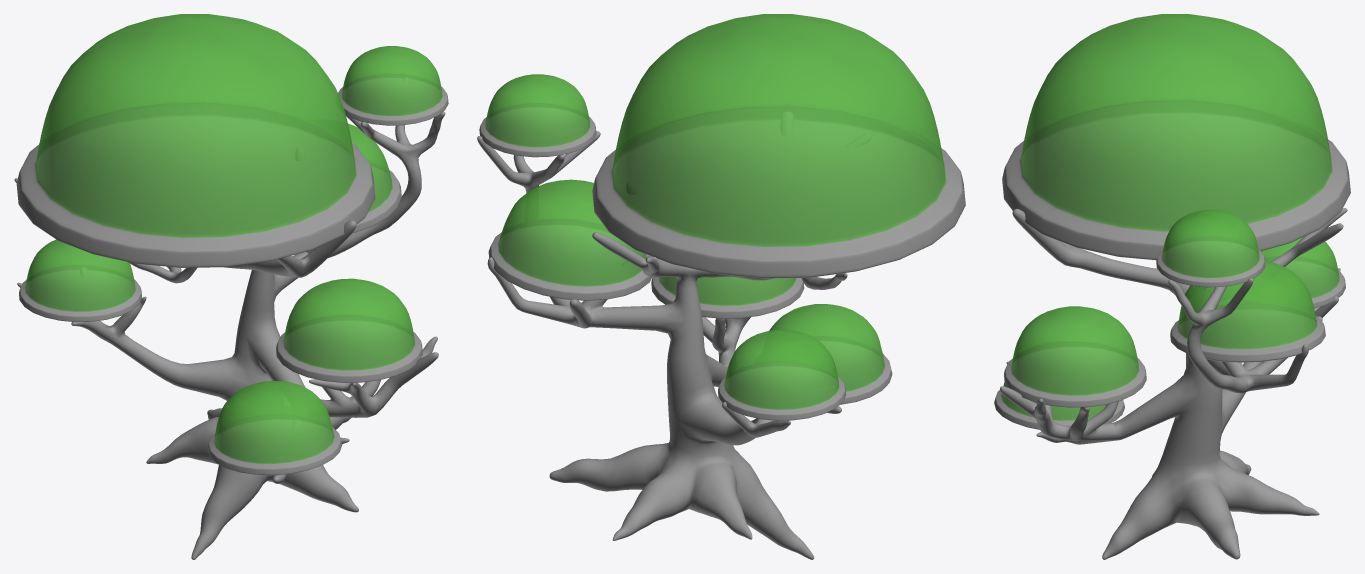
File: Tree_MainDome.fbx
The picture shows the model from 3 angles, left to right: view 1: azimuth 30°, elevation 25°; view 2: azimuth 150°, elevation 25°; view 3: azimuth 270°, elevation 25°; orthographic projection. The views are drawn at different scales.
Parts seen in each view (by area): view 1: TopDome, Tree_MainDone, MiddleRightDome, MiddleLeftDome, DownLeftDome, TopRightDome, DownRightDome; view 2: TopDome, Tree_MainDone, DownRightDome, DownLeftDome, TopRightDome, MiddleLeftDome, MiddleRightDome; view 3: TopDome, Tree_MainDone, MiddleRightDome, DownRightDome, TopRightDome, DownLeftDome, MiddleLeftDome.
Part boxes in pixels (x1,y1,x2,y2): TopDome: (16, 14, 375, 267); Tree_MainDone: (14, 78, 445, 559); MiddleRightDome: (276, 278, 422, 382); MiddleLeftDome: (207, 380, 342, 475); DownLeftDome: (19, 239, 141, 322); TopRightDome: (338, 46, 448, 125); DownRightDome: (348, 123, 401, 232); TopDome: (592, 14, 965, 278); Tree_MainDone: (477, 112, 870, 559); DownRightDome: (488, 179, 652, 300); DownLeftDome: (718, 329, 846, 420); TopRightDome: (479, 74, 596, 157); MiddleLeftDome: (769, 304, 892, 404); MiddleRightDome: (651, 277, 804, 318); TopDome: (1002, 14, 1350, 260); Tree_MainDone: (1000, 138, 1347, 559); MiddleRightDome: (1004, 306, 1146, 407); DownRightDome: (1170, 260, 1325, 362); TopRightDome: (1156, 210, 1265, 287); DownLeftDome: (1260, 237, 1345, 308); MiddleLeftDome: (994, 382, 1124, 429).
Bounding box in the file's own units: 14.84 × 11.28 × 17.4.
